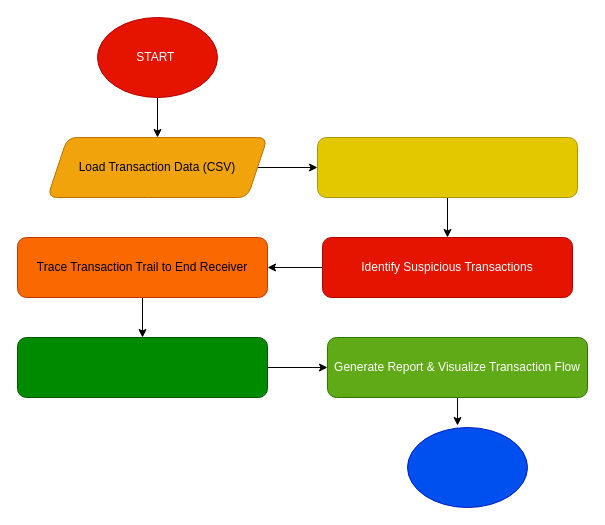
This 605x525 diagram has some shape labels left out. Here are the shapes that lost their labels. From the top down, the centre of each, then its label:
(x=447, y=167): [Build Graph: Nodes (Addresses), Edges (Transactions)]
(x=142, y=367): Detect Mixers (Small-value Transfers)
(x=467, y=467): END
